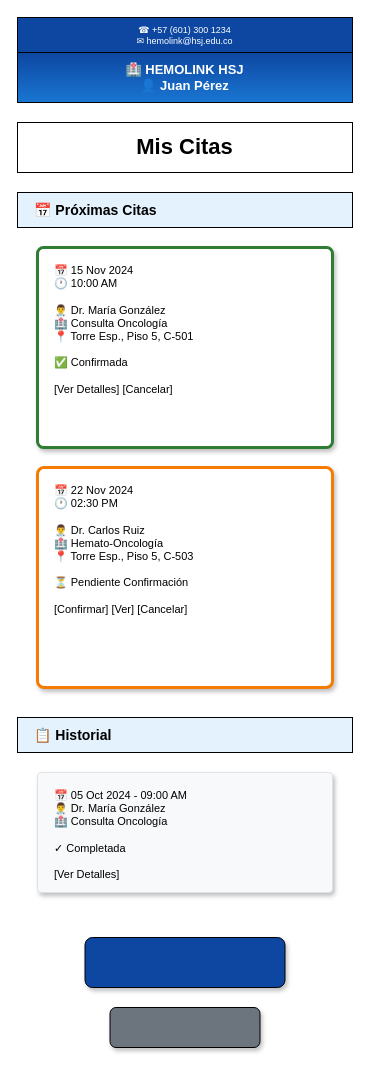
Image size: 370x1072. Some labels were removed from this diagram. Here are the shapes that lost their labels. From the top down, the centre of each, then its label:
At (185,963): "[+ Solicitar Nueva Cita]".
At (185,1028): "[Cerrar Sesión]".
